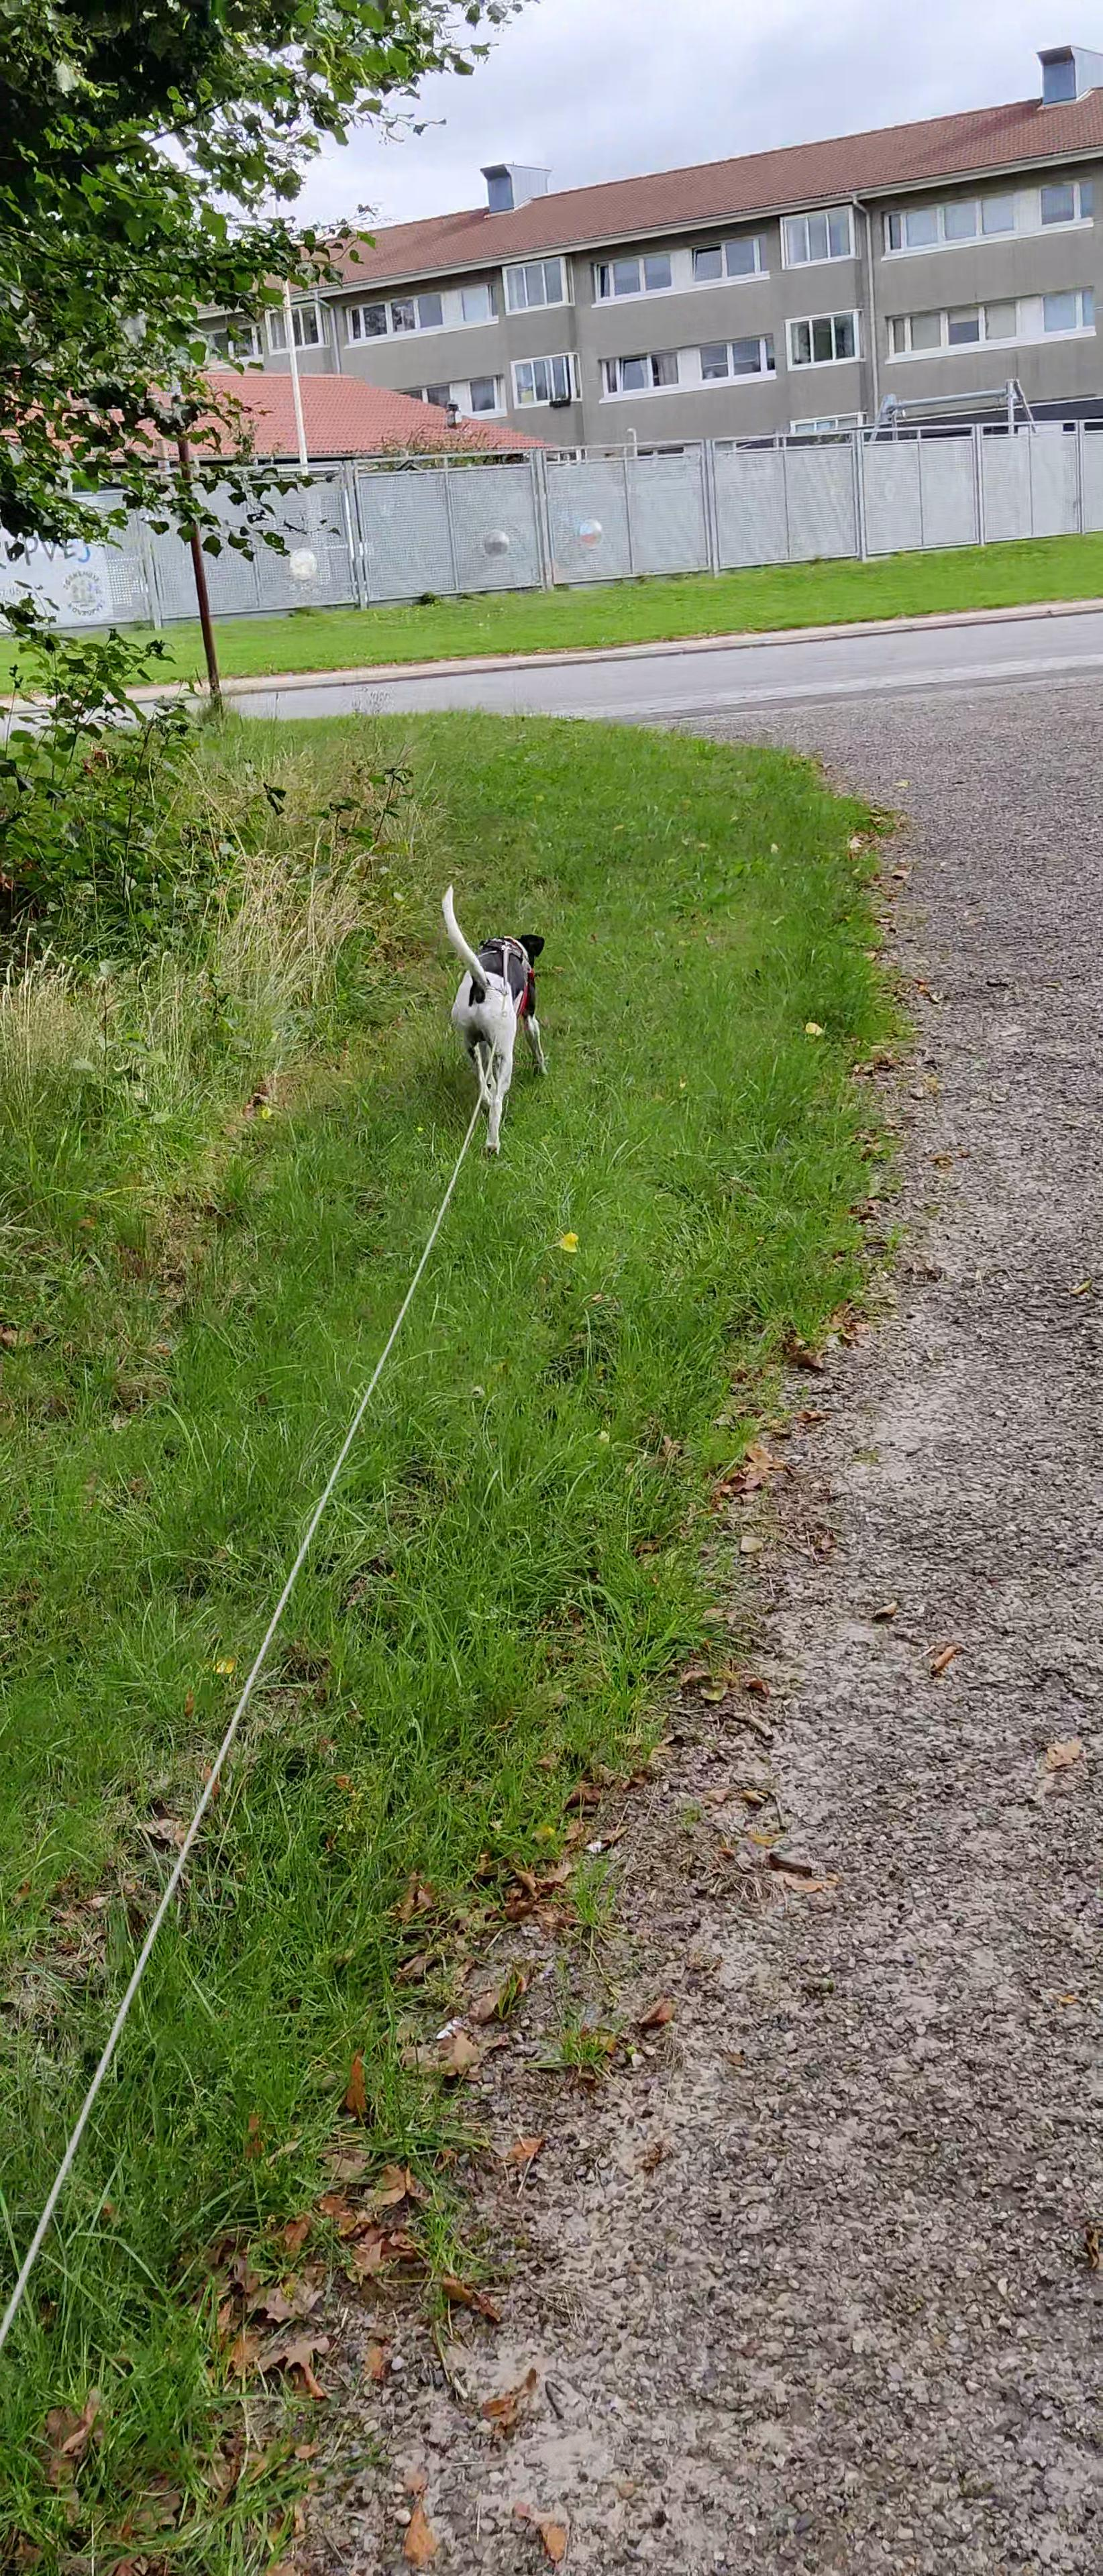Dog: (432, 884, 556, 1163)
